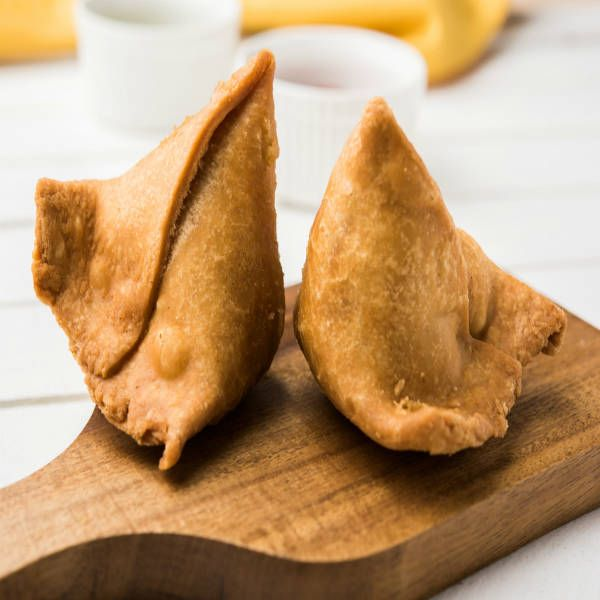samosa: (29, 43, 283, 479), (289, 77, 574, 461)
